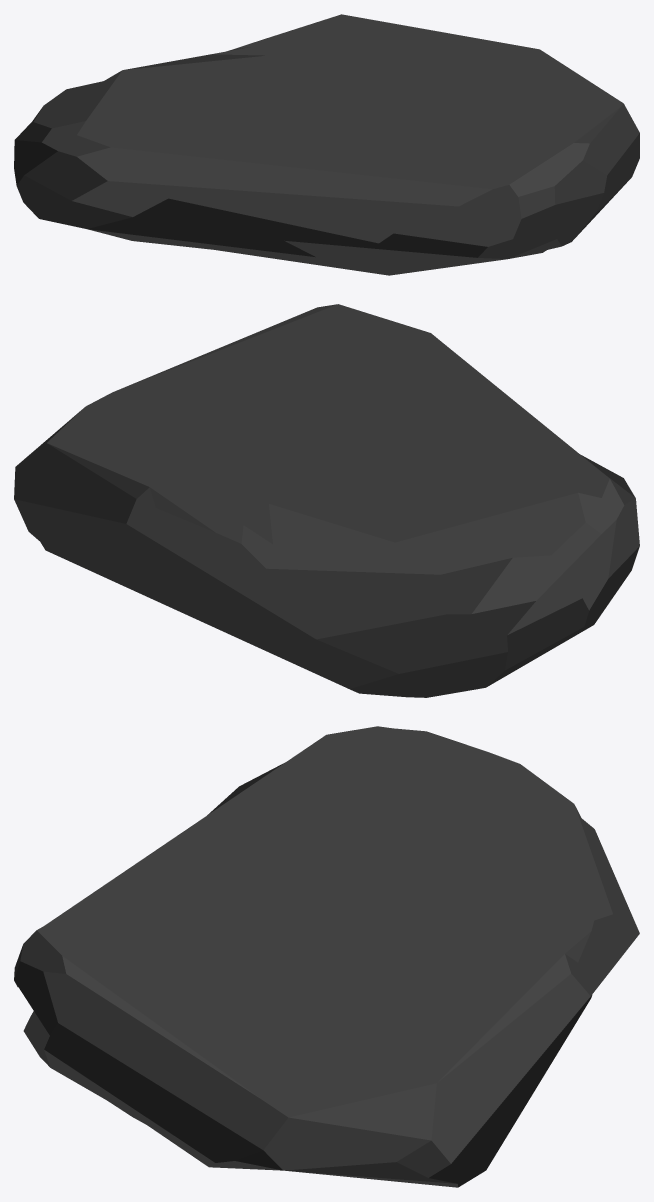
File: Rock02.fbx
The picture shows the model from 3 angles, top to bottom: view 1: azimuth 30°, elevation 25°; view 2: azimuth 150°, elevation 25°; view 3: azimuth 270°, elevation 25°; orthographic projection. The views are drawn at different scales.
Parts seen in each view (by area): view 1: Rock02; view 2: Rock02; view 3: Rock02.
Part boxes in pixels (<box>): Rock02: <box>14,14,639,275</box>; Rock02: <box>14,304,639,697</box>; Rock02: <box>14,726,639,1187</box>.
Bounding box in the file's own units: 1036 × 361 × 816.
